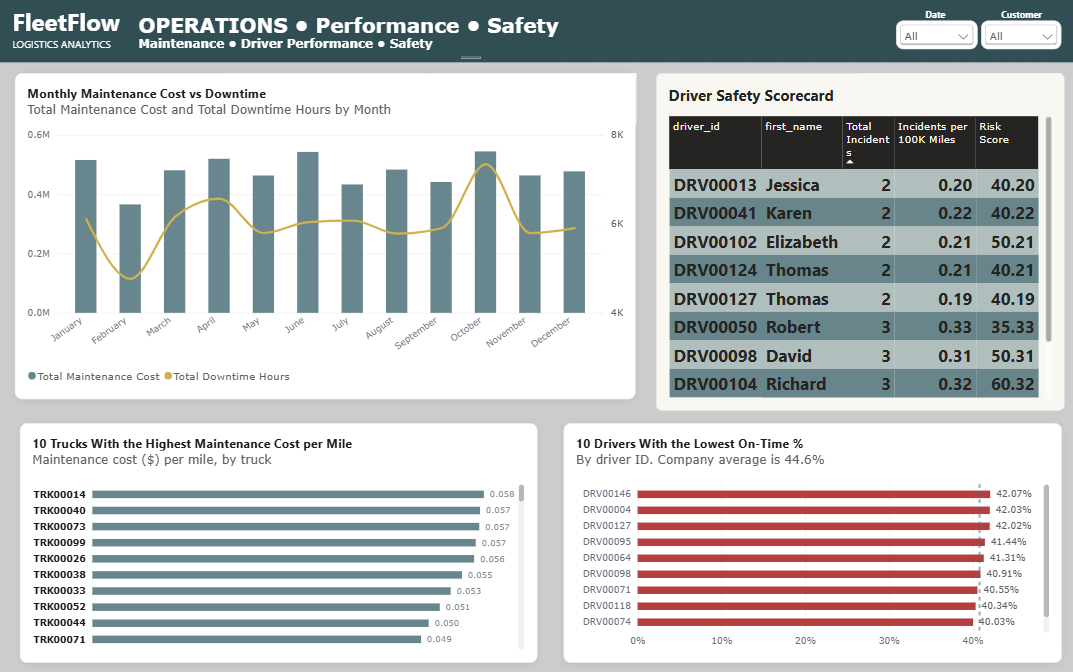

Layout of this report page (visuals, bound fields, positions):
{"tool":"powerbi","page":{"name":"Fleet & Operations","canvas":[1920,1080],"ordinal":1},"visuals":[{"type":"shape","box":[242.1,0,1678.2,144.2],"z":0},{"type":"textbox","box":[277.2,31.4,682,130],"z":1000},{"type":"scatterChart","title":"Maintenance & Downtime","fields":{"X":["Sum(reporting fact_maintenance.downtime_hours)"],"Y":["Sum(reporting fact_maintenance.total_cost)"],"Category":["reporting fact_maintenance.truck_id"]},"box":[38,160,1096,460],"z":2000},{"type":"clusteredBarChart","title":"Top 10 Drivers by Safety Risk","fields":{"Y":["reporting dim_customer.Risk Score"],"Category":["reporting dim_driver.first_name","reporting dim_driver.last_name"]},"box":[14,640,848,420],"z":3000},{"type":"scatterChart","title":"Driver Performance","fields":{"X":["reporting dim_customer.Driver On-Time %"],"Y":["Avg(reporting fact_trips.average_mpg)"],"Category":["reporting dim_driver.driver_id"]},"box":[904,640,990,418],"z":4000},{"type":"tableEx","title":"Safety Detail by Driver","fields":{"Values":["reporting dim_driver.driver_id","reporting dim_customer.Total Incidents","reporting dim_customer.Incidents per 100K Miles","reporting dim_customer.Preventable Incident %","reporting dim_customer.Risk Score"]},"box":[1170,160,686,460],"z":5000},{"type":"image","box":[0,0,242.1,144.2],"z":6000}]}

Visuals, with their boxes on the page's 1920x1080 design canvas (x1, y1, x2, y2). These are canvas units, not pixel positions in the 1073x672 screenshot, which may show the page scaled, cropped or inside an application window:
shape: (242, 0, 1920, 144)
textbox: (277, 31, 959, 161)
"Maintenance & Downtime" scatterChart: (38, 160, 1134, 620)
"Top 10 Drivers by Safety Risk" clusteredBarChart: (14, 640, 862, 1060)
"Driver Performance" scatterChart: (904, 640, 1894, 1058)
"Safety Detail by Driver" tableEx: (1170, 160, 1856, 620)
image: (0, 0, 242, 144)
